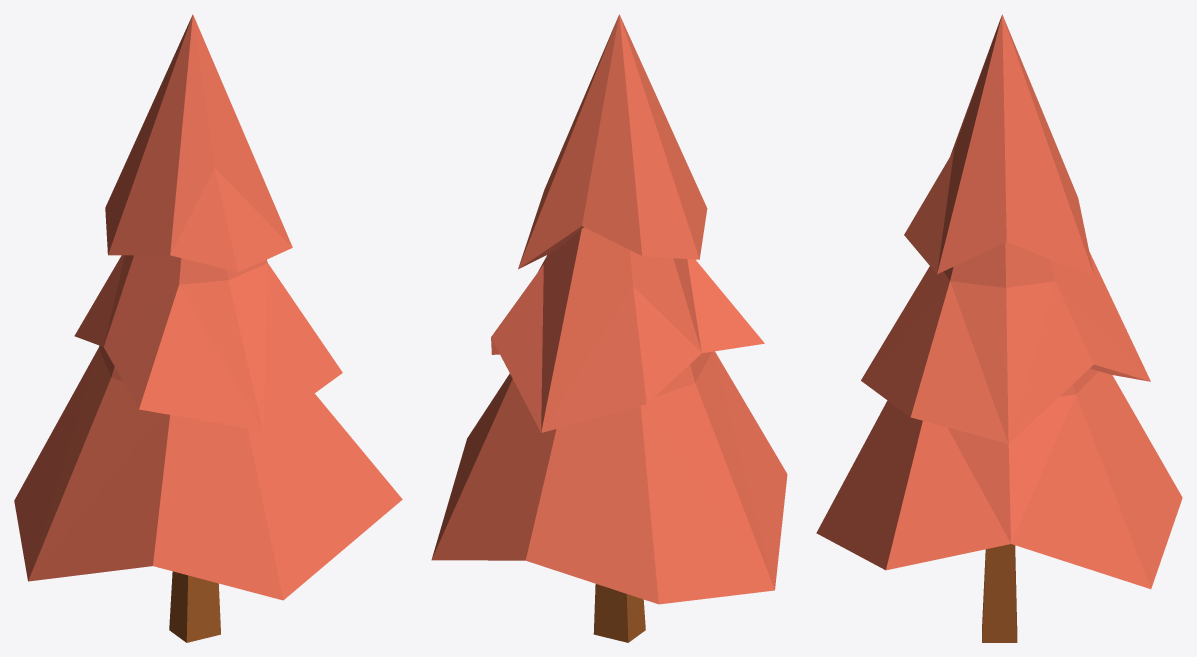
Rendered from Tree 01.FBX.
3 renders of one model, left to right at view 1: azimuth 30°, elevation 25°; view 2: azimuth 150°, elevation 25°; view 3: azimuth 270°, elevation 25°, orthographic.
Parts seen in each view (by area): view 1: Box001; view 2: Box001; view 3: Box001.
Part boxes in pixels (box(x1,y1,x2,y2)): Box001: box(14, 14, 402, 642); Box001: box(431, 14, 787, 642); Box001: box(816, 14, 1182, 642).
Bounding box in the file's own units: 6.76 × 12.8 × 6.86.
